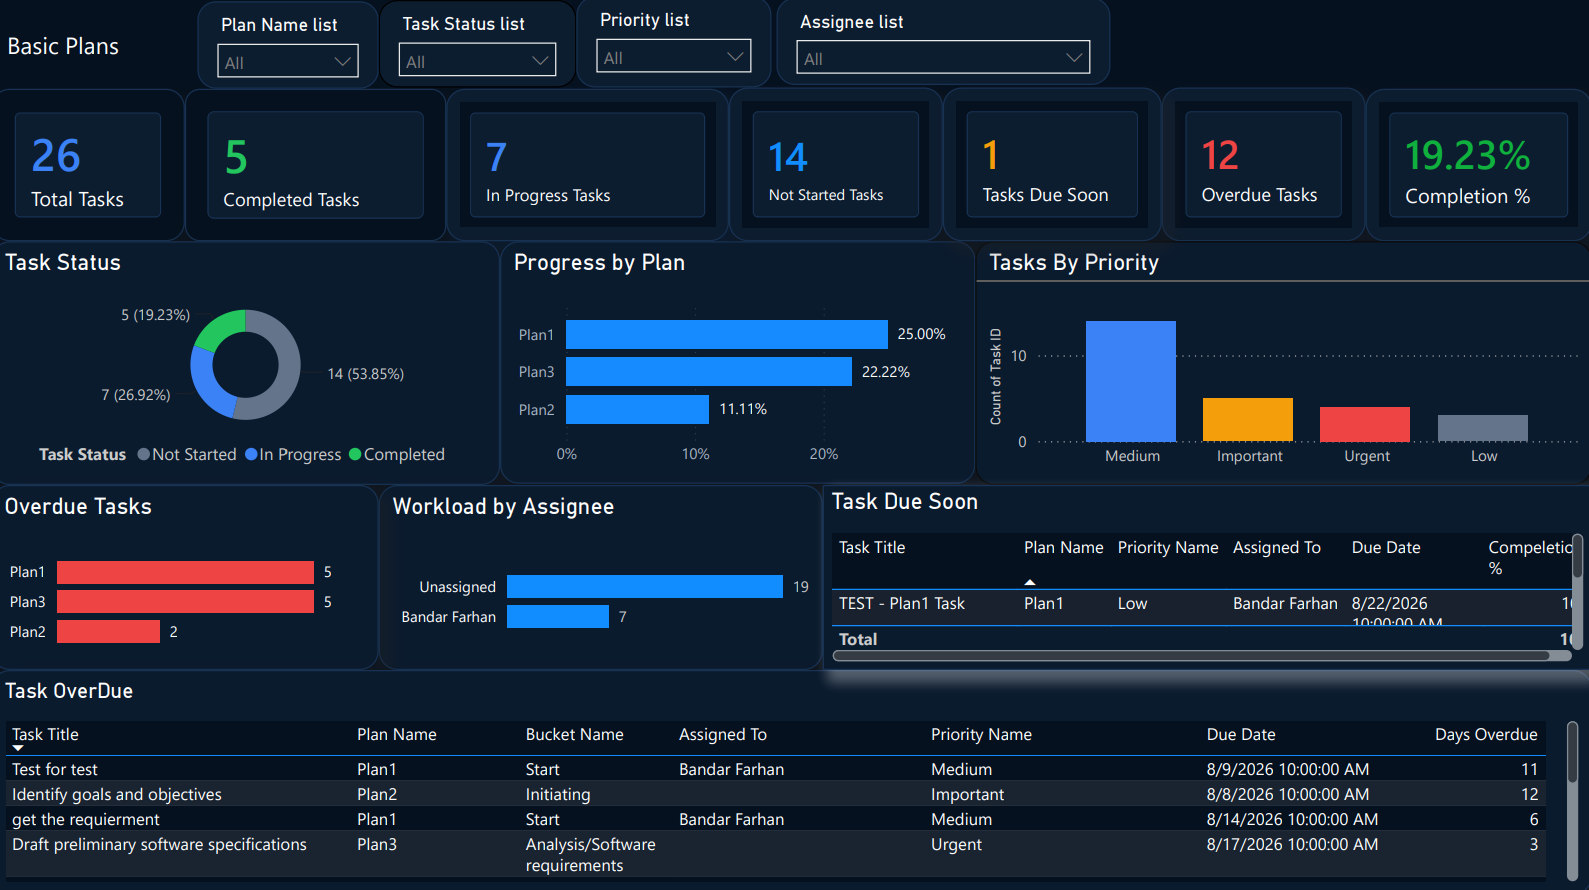

The dashboard page shown, as its layout file describes it:
{"tool":"powerbi","page":{"name":"Basic Plan","canvas":[1280,720],"ordinal":0},"visuals":[{"type":"cardVisual","fields":{"Data":["cr3fa_plannertask.Total Tasks"]},"box":[0,74.8,154.7,122.2],"z":0},{"type":"cardVisual","fields":{"Data":["cr3fa_plannertask.Completed Tasks"]},"box":[154.7,74.8,209.3,122.2],"z":1000},{"type":"cardVisual","fields":{"Data":["cr3fa_plannertask.In Progress Tasks"]},"box":[364,74.8,225.6,122.2],"z":2000},{"type":"cardVisual","fields":{"Data":["cr3fa_plannertask.Not Started Tasks"]},"box":[589.6,74.1,171.6,122.9],"z":3000},{"type":"cardVisual","fields":{"Data":["cr3fa_plannertask.Overdue Tasks"]},"box":[936.1,74.1,163.2,122.9],"z":4000},{"type":"cardVisual","fields":{"Data":["cr3fa_plannertask.Completion %"]},"box":[1099.3,74.8,180.7,122.2],"z":5000},{"type":"donutChart","title":"Task Status","fields":{"Category":["cr3fa_plannertask.Task Status"],"Y":["CountNonNull(cr3fa_plannertask.Task ID)"]},"box":[0,196.9,406.8,195],"z":6000},{"type":"clusteredBarChart","title":"Progress by Plan","fields":{"Category":["cr3fa_plannertask.Plan Name"],"Y":["cr3fa_plannertask.Completion %"]},"box":[406.9,197,380.3,194.4],"z":7000},{"type":"clusteredColumnChart","title":"Tasks By Priority","fields":{"Category":["cr3fa_plannertask.Priority Name"],"Y":["CountNonNull(cr3fa_plannertask.Task ID)"]},"box":[787,196.9,493,195],"z":8000},{"type":"clusteredBarChart","title":"Workload by Assignee","fields":{"Category":["cr3fa_plannertask.Assignee Display"],"Y":["CountNonNull(cr3fa_plannertask.Task ID)"]},"box":[310,391.7,355,148.3],"z":9000},{"type":"clusteredBarChart","title":"Overdue Tasks","fields":{"Category":["cr3fa_plannertask.Plan Name"],"Y":["cr3fa_plannertask.Overdue Tasks"]},"box":[0,391.7,310,148.3],"z":10000},{"type":"tableEx","title":"Task OverDue","fields":{"Values":["cr3fa_plannertask.Task Title","cr3fa_plannertask.Plan Name","cr3fa_plannertask.Bucket Name","cr3fa_plannertask.Assigned To","cr3fa_plannertask.Priority Name","cr3fa_plannertask.Due Date","cr3fa_plannertask.Days Overdue"]},"box":[0,540,1280,180],"z":11000},{"type":"slicer","fields":{"Values":["cr3fa_plannertask.Plan Name"]},"box":[164.8,4.9,145.1,70],"z":12000},{"type":"slicer","fields":{"Values":["cr3fa_plannertask.Assignee Display"]},"box":[627.8,2.3,267,70.2],"z":13000},{"type":"slicer","fields":{"Values":["cr3fa_plannertask.Task Status"]},"box":[310,4.2,158.1,70],"z":14000},{"type":"slicer","fields":{"Values":["cr3fa_plannertask.Priority Name"]},"box":[467.9,0.7,156,73.5],"z":15000},{"type":"tableEx","title":"Task Due Soon","fields":{"Values":["cr3fa_plannertask.Task Title","cr3fa_plannertask.Plan Name","cr3fa_plannertask.Priority Name","cr3fa_plannertask.Assigned To","cr3fa_plannertask.Due Date","Sum(cr3fa_plannertask.Percent Complete)"]},"box":[665.3,391.9,614.7,148.3],"z":16000},{"type":"cardVisual","fields":{"Data":["cr3fa_plannertask.Tasks Due Soon"]},"box":[761.2,74.1,174.9,122.9],"z":17000},{"type":"textbox","title":"Project Details","box":[7.7,4.9,154.3,69.1],"z":18000}]}

Visuals, with their boxes in screenshot pixels (x1, y1, x2, y2), scaled from the page's 1280x720 canvas onto the 1589x890 screenshot:
cardVisual - cr3fa_plannertask.Total Tasks: l=0, t=92, r=192, b=244
cardVisual - cr3fa_plannertask.Completed Tasks: l=192, t=92, r=452, b=244
cardVisual - cr3fa_plannertask.In Progress Tasks: l=452, t=92, r=732, b=244
cardVisual - cr3fa_plannertask.Not Started Tasks: l=732, t=92, r=945, b=244
cardVisual - cr3fa_plannertask.Overdue Tasks: l=1162, t=92, r=1365, b=244
cardVisual - cr3fa_plannertask.Completion %: l=1365, t=92, r=1588, b=244
"Task Status" donutChart: l=0, t=243, r=505, b=484
"Progress by Plan" clusteredBarChart: l=505, t=244, r=977, b=484
"Tasks By Priority" clusteredColumnChart: l=977, t=243, r=1588, b=484
"Workload by Assignee" clusteredBarChart: l=385, t=484, r=826, b=668
"Overdue Tasks" clusteredBarChart: l=0, t=484, r=385, b=668
"Task OverDue" tableEx: l=0, t=668, r=1588, b=889
slicer - cr3fa_plannertask.Plan Name: l=205, t=6, r=385, b=93
slicer - cr3fa_plannertask.Assignee Display: l=779, t=3, r=1111, b=90
slicer - cr3fa_plannertask.Task Status: l=385, t=5, r=581, b=92
slicer - cr3fa_plannertask.Priority Name: l=581, t=1, r=775, b=92
"Task Due Soon" tableEx: l=826, t=484, r=1588, b=668
cardVisual - cr3fa_plannertask.Tasks Due Soon: l=945, t=92, r=1162, b=244
"Project Details" textbox: l=10, t=6, r=201, b=91
